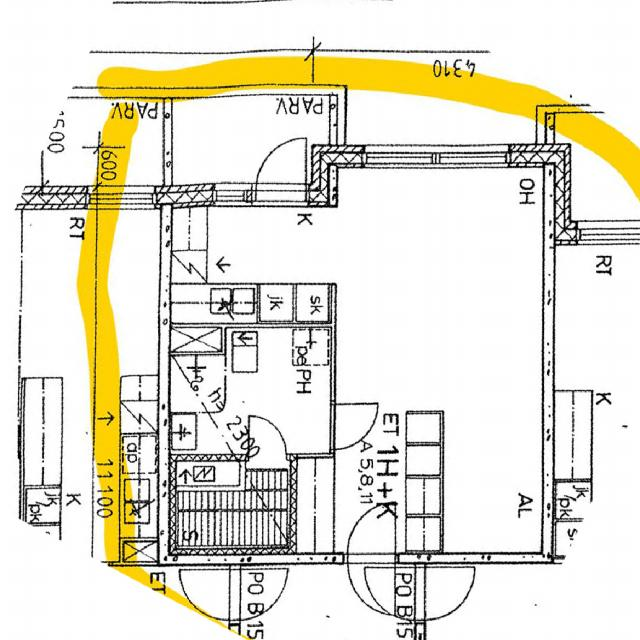door: (256, 130, 307, 206), (347, 503, 395, 565), (347, 554, 395, 615), (330, 404, 378, 449), (248, 414, 286, 461)
